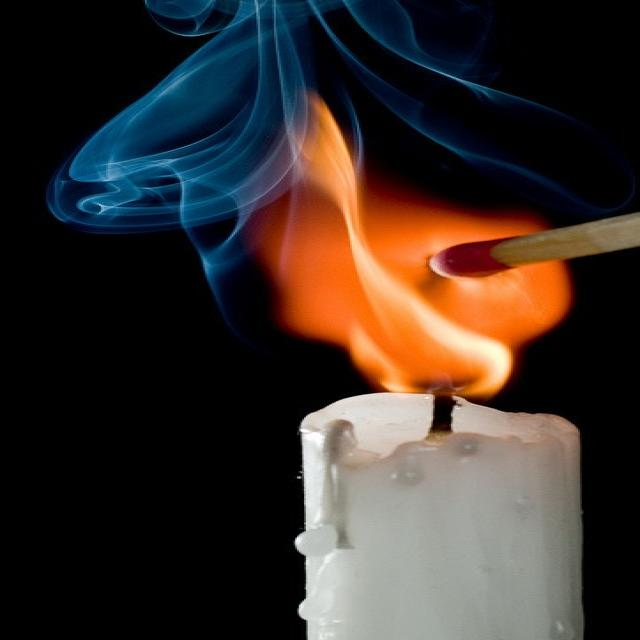Fire: (261, 93, 580, 389), (53, 4, 320, 237)
